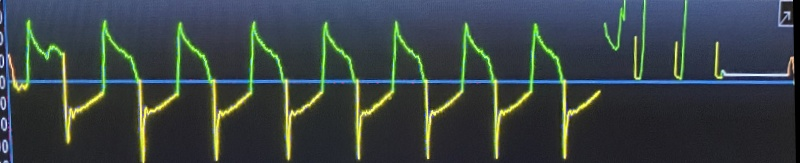peepi: (14, 12, 604, 162)
